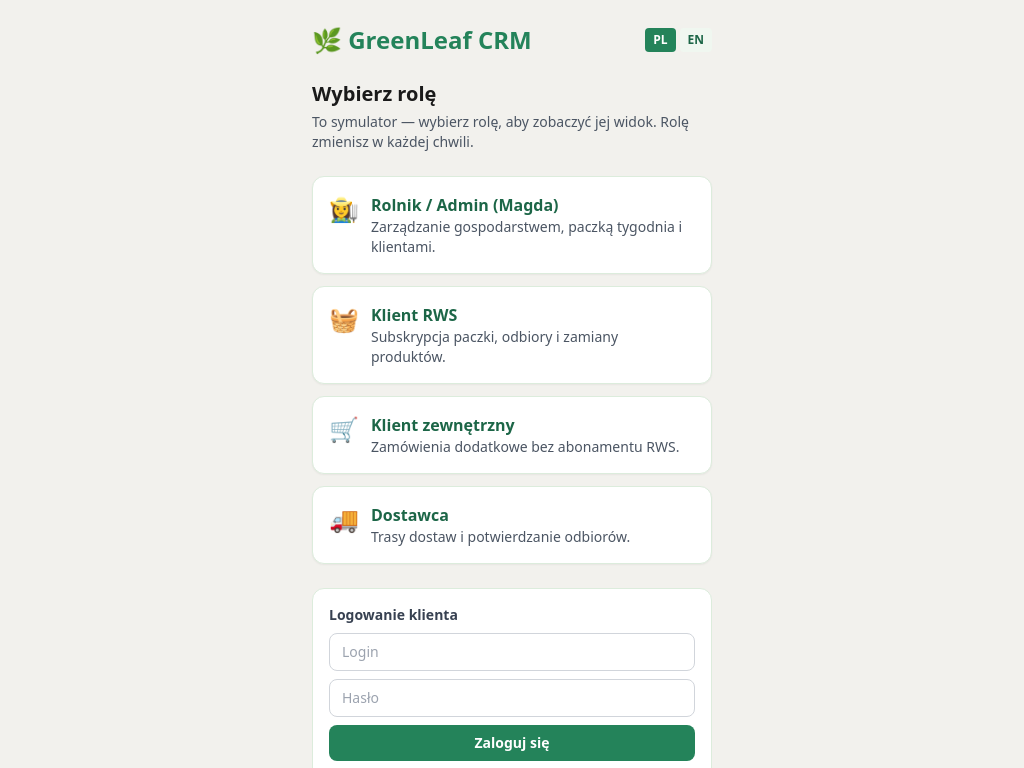
Test case: role: RolePicker + przełączanie shelli › klik "Rolnik/Admin" renderuje AdminShell z nawigacją
This screenshot has width=1024, height=768.
What coordinates should you click on to do the following:
click the button "Rolnik / Admin"
I would click on:
 (512, 225)
Its box is top-left (312, 176), bottom-right (712, 274).
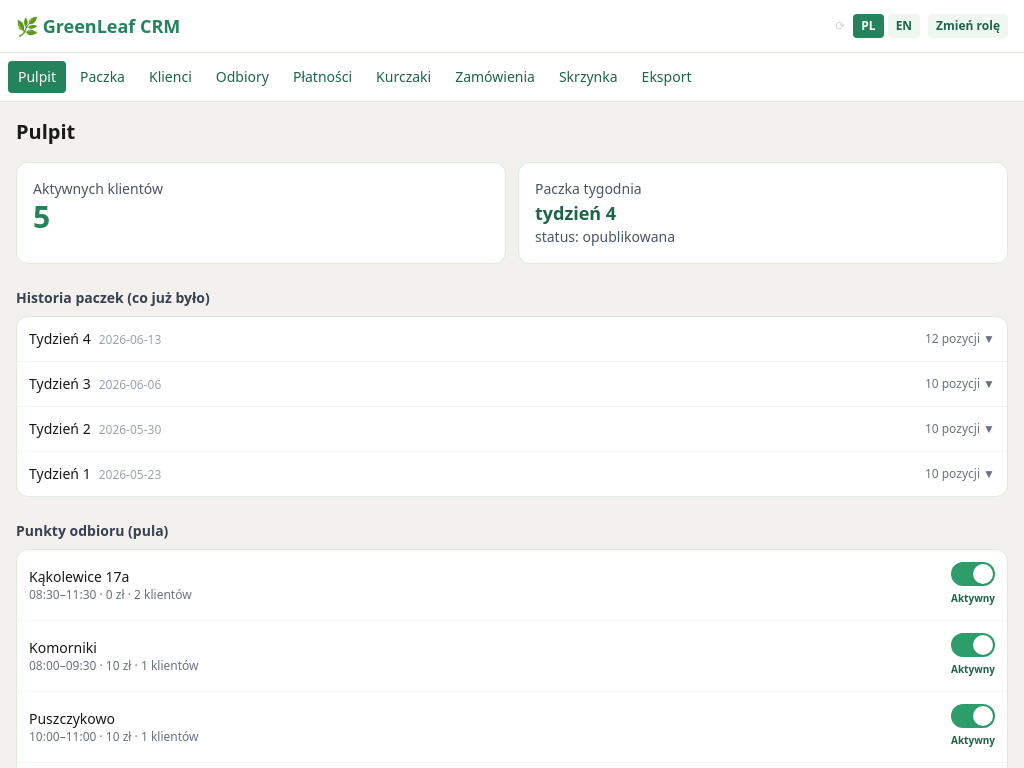
Expected: the button "Pulpit" is shown, top-left (8, 61), bottom-right (66, 93)
Expected: the button "Klienci" is shown, top-left (139, 61), bottom-right (202, 93)
Expected: the button "Eksport" is shown, top-left (632, 61), bottom-right (702, 93)
